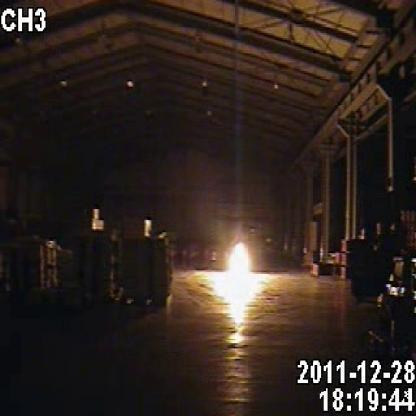fire: (197, 217, 289, 383)
